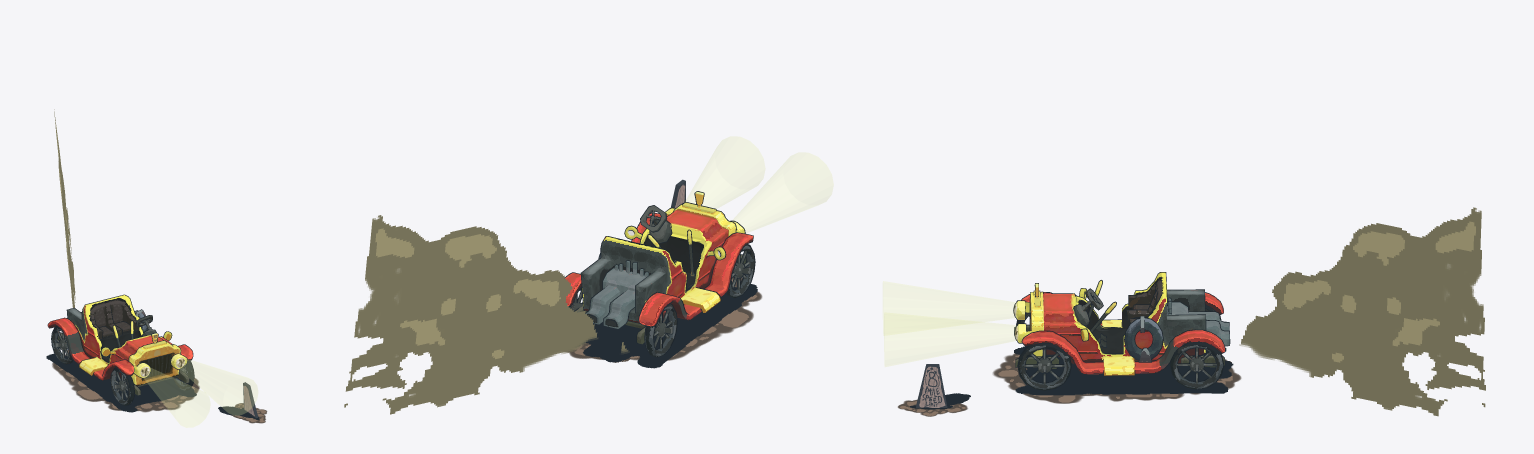
Rendered from cars.glb.
3 renders of one model, left to right at view 1: azimuth 30°, elevation 25°; view 2: azimuth 150°, elevation 25°; view 3: azimuth 270°, elevation 25°, orthographic. The views are drawn at different scales.
Parts seen in each view (by area): view 1: car.086, Cylinder, carshadow, smoke, woodgroudn, woo; view 2: smoke, car.086, Cylinder, carshadow; view 3: smoke, car.086, Cylinder, carshadow, woo, woodgroudn.
Boxes of the visible parts, x1,y1,x2,y2 form: car.086: (47, 294, 194, 406); Cylinder: (142, 358, 257, 427); carshadow: (46, 350, 199, 412); smoke: (54, 109, 75, 307); woodgroudn: (218, 403, 267, 423); woo: (243, 382, 258, 418); smoke: (344, 215, 629, 414); car.086: (564, 191, 755, 358); Cylinder: (685, 136, 833, 232); carshadow: (566, 277, 762, 368); smoke: (1211, 207, 1485, 416); car.086: (1013, 272, 1230, 390); Cylinder: (883, 281, 1017, 366); carshadow: (992, 346, 1241, 403); woo: (916, 364, 947, 407); woodgroudn: (897, 393, 970, 416).
Bounding box in the file's own units: 10.6 × 13.81 × 24.86.
7 materials, 5 textured.
